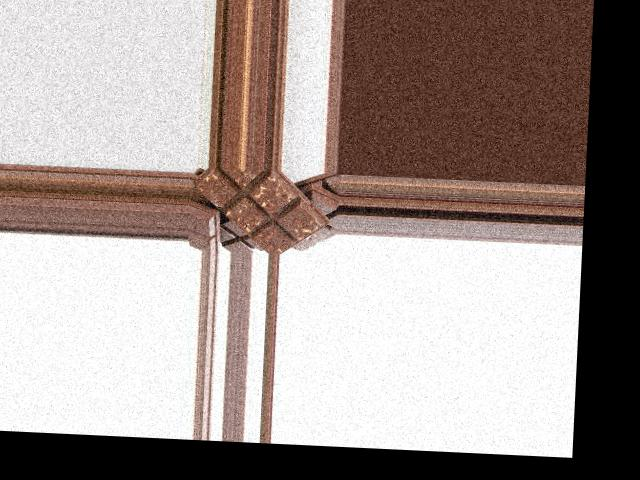chocolate: (192, 166, 322, 255)
